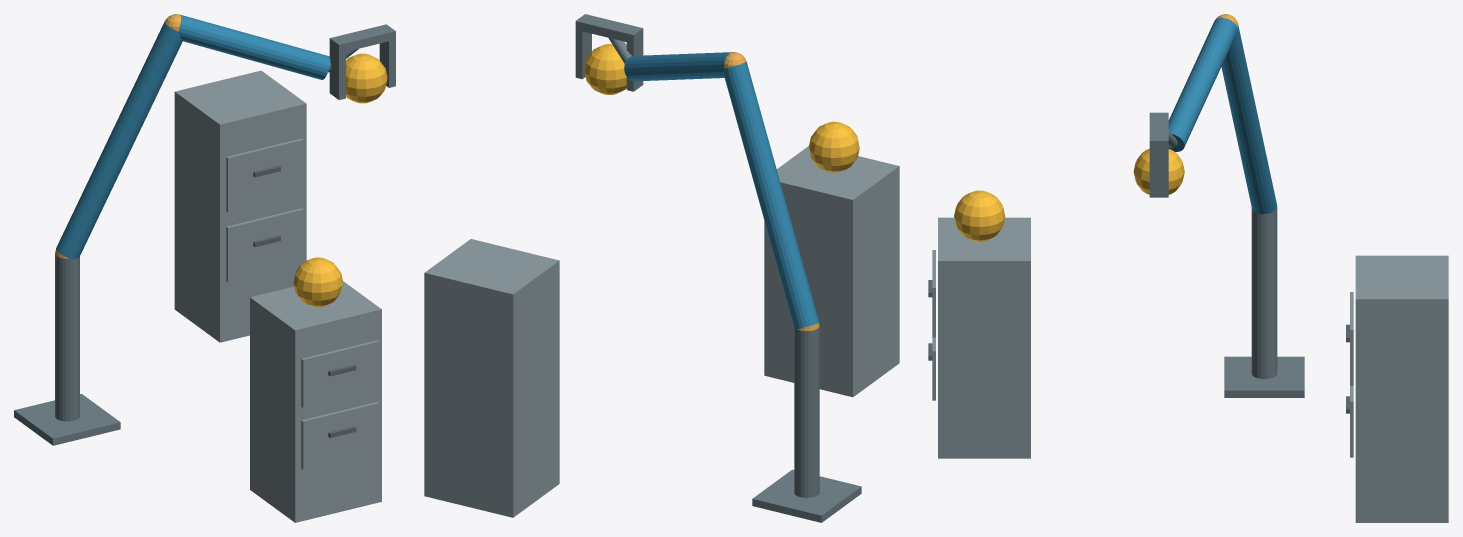
3 renders of one model, left to right at view 1: azimuth 30°, elevation 25°; view 2: azimuth 150°, elevation 25°; view 3: azimuth 270°, elevation 25°, orthographic. The views are drawn at different scales.
Visible parts, largest first — view 1: cabinet_2 body, cabinet_1 body, moving link 1, cabinet_2 drawer front.001, cabinet_2 drawer front, fixed post, moving link 2, cabinet_1 drawer front.001, cabinet_1 drawer front, pedestal, released ball_1, ball ball_2 (+3 smaller); view 2: cabinet_2 body, cabinet_1 body, moving link 1, fixed post, pedestal, moving link 2, released ball_1, ball ball_2, gripper bridge, gripper finger 1; view 3: cabinet_2 body, cabinet_1 body, fixed post, moving link 1, moving link 2, pedestal, released ball_1, ball ball_2, gripper finger 1, gripper bridge.
Part boxes in pixels (x1,y1,x2,y2): cabinet_2 body: (174,70,306,342); cabinet_1 body: (250,281,381,522); moving link 1: (56,21,182,259); cabinet_2 drawer front.001: (226,138,304,212); cabinet_2 drawer front: (226,208,304,282); fixed post: (55,254,79,421); moving link 2: (178,14,330,79); cabinet_1 drawer front.001: (301,340,379,408); cabinet_1 drawer front: (301,402,379,469); pedestal: (14,393,120,445); released ball_1: (293,257,342,307); ball ball_2: (346,53,387,103); cabinet_2 body: (424,239,559,517); cabinet_1 body: (764,146,899,397); moving link 1: (723,61,819,329); fixed post: (794,327,819,497); pedestal: (752,469,861,522); moving link 2: (624,52,732,81); released ball_1: (809,121,859,172); ball ball_2: (584,44,626,94); gripper bridge: (575,14,643,43); gripper finger 1: (575,30,591,79); cabinet_2 body: (1355,255,1448,522); cabinet_1 body: (938,217,1030,458); fixed post: (1251,207,1277,378); moving link 1: (1221,24,1276,214); moving link 2: (1168,17,1237,151); pedestal: (1224,356,1304,397); released ball_1: (954,190,1005,241); ball ball_2: (1133,148,1184,194); gripper finger 1: (1149,149,1168,197); gripper bridge: (1149,112,1168,149).
Bounding box in the file's own units: 1.17 × 1.41 × 1.62.
